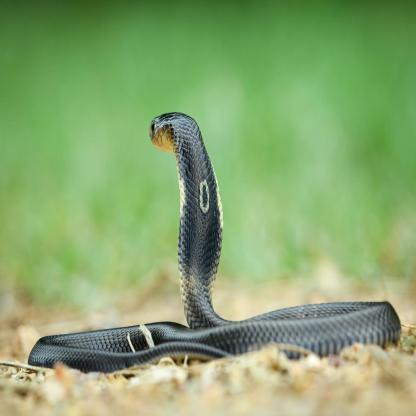Snake: (29, 105, 401, 370)
